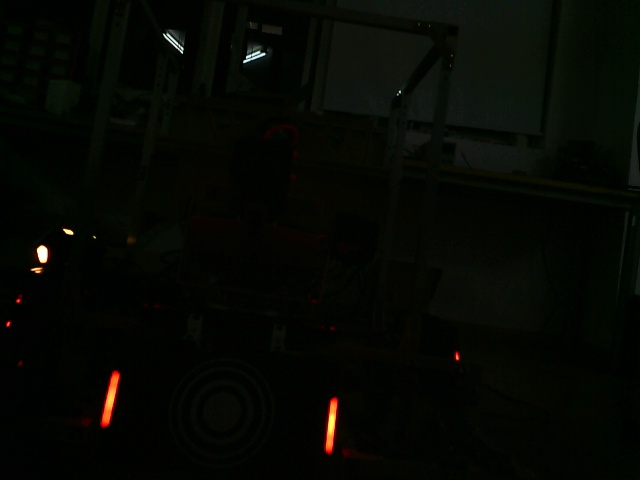lamp: (100, 368, 123, 430), (323, 396, 339, 455)
